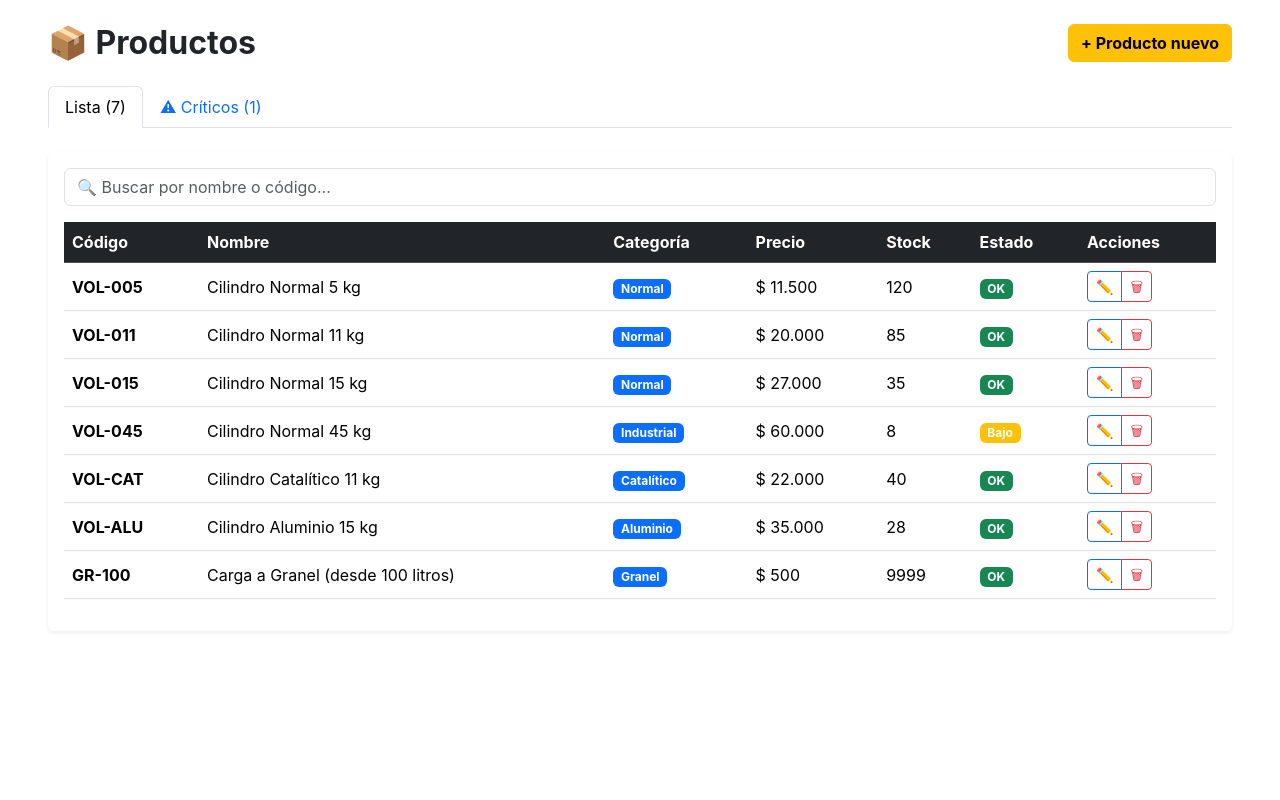
Test case: Productos admin - listas y renderizado condicional › filtra la lista con la búsqueda de productos
Type "aluminio" into the field with placeholder "🔍 Buscar por nombre o código..." at (640, 187), box left=64, top=168, right=1216, bottom=206
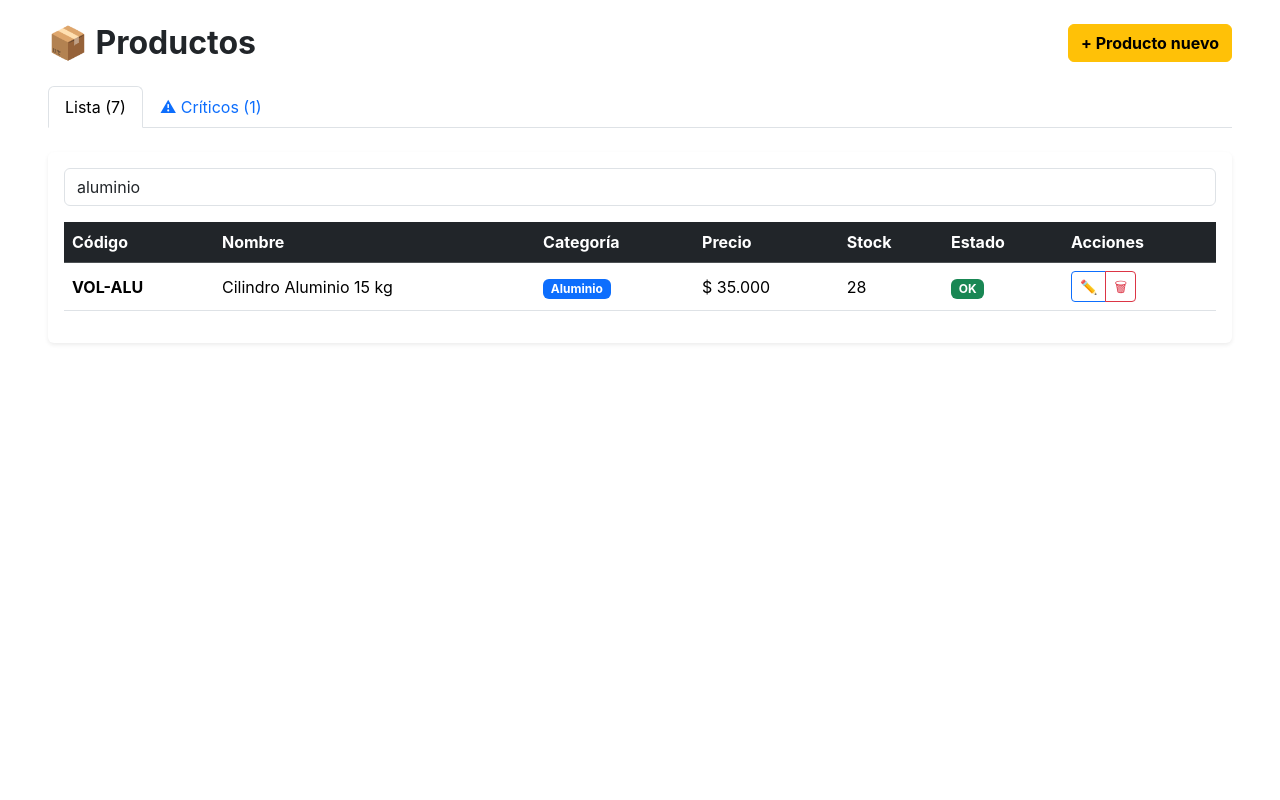
expect the text "Cilindro Aluminio 15 kg" is shown: met, box left=214, top=263, right=535, bottom=311
expect the text "Cilindro Normal 11 kg" is gone: met
